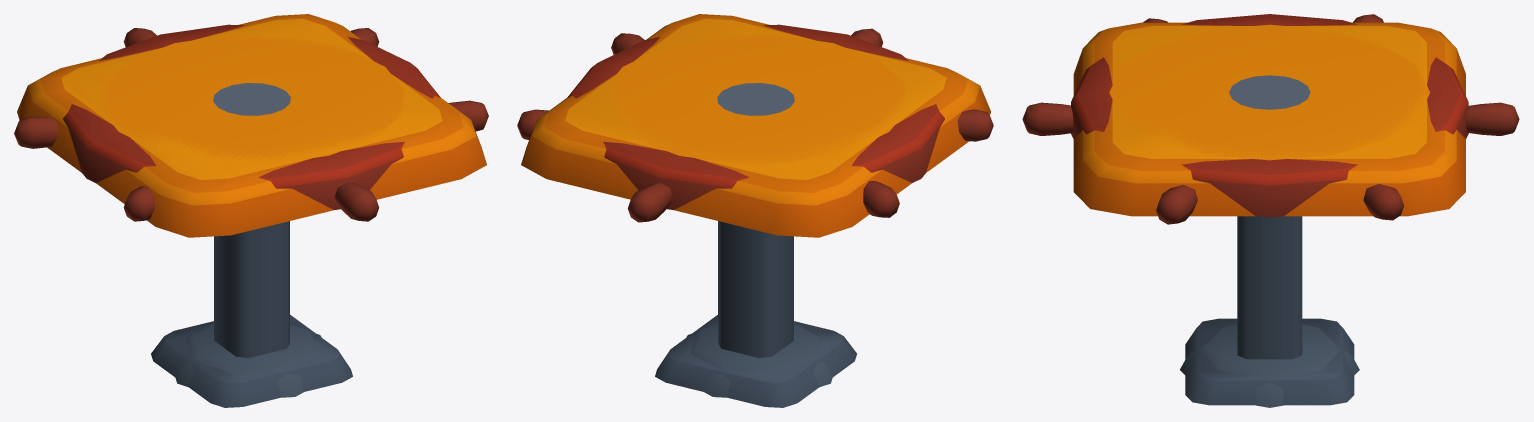
Rendered from Tables-ns.fbx.
3 renders of one model, left to right at view 1: azimuth 30°, elevation 25°; view 2: azimuth 150°, elevation 25°; view 3: azimuth 270°, elevation 25°, orthographic. The views are drawn at different scales.
Visible parts, largest first — view 1: Table-ns-wheel, Table-ns-yellow; view 2: Table-ns-wheel, Table-ns-yellow; view 3: Table-ns-wheel, Table-ns-yellow.
Boxes of the visible parts, <box> form: Table-ns-wheel: <box>14,24,488,397</box>; Table-ns-yellow: <box>17,14,486,407</box>; Table-ns-wheel: <box>517,24,993,397</box>; Table-ns-yellow: <box>521,14,990,407</box>; Table-ns-wheel: <box>1022,14,1519,407</box>; Table-ns-yellow: <box>1073,22,1465,405</box>.
Size of the model in its own units: 137 by 92.79 by 151.
